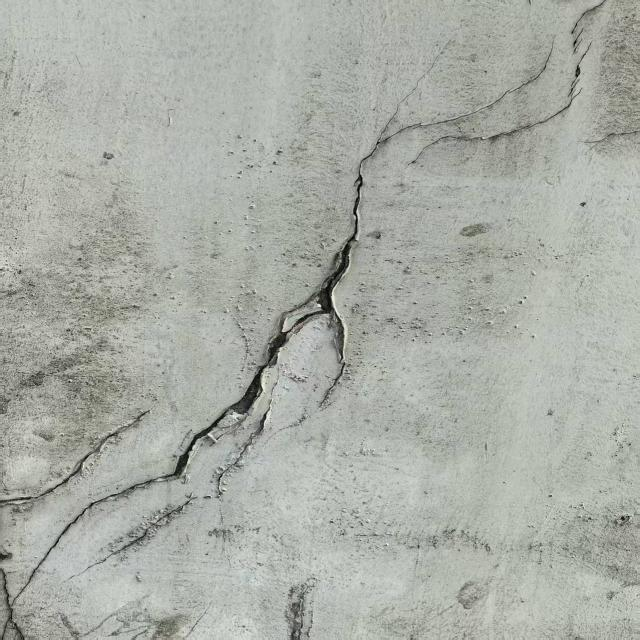crack: (3, 2, 590, 637), (3, 391, 168, 520), (56, 495, 193, 590), (199, 367, 283, 508)
